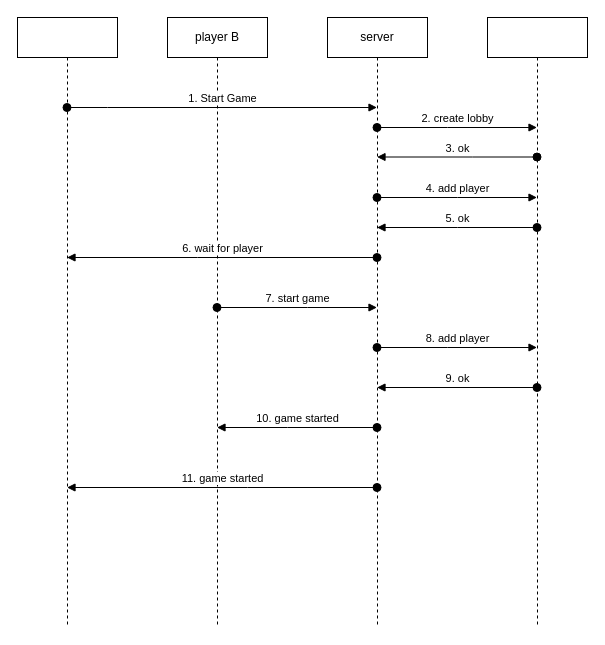
Image size: 605x645. Some labels were removed from this diagram. The box of each missing label's shape, as (x1, y1, x2, y2) in pixels:
game lobby: (486, 16, 588, 628)
player A: (16, 16, 118, 628)
